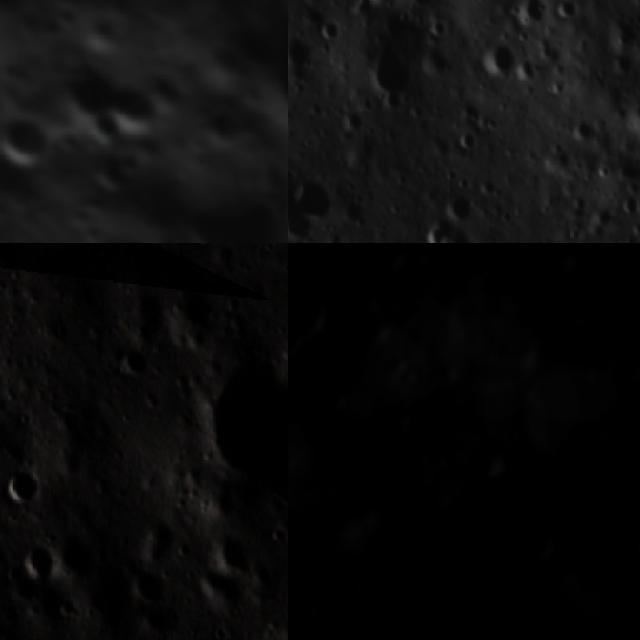crater: (47, 35, 175, 166), (191, 351, 288, 499), (152, 141, 288, 243), (223, 0, 288, 160), (0, 95, 70, 182), (362, 39, 436, 103), (217, 530, 260, 584), (512, 519, 560, 567), (444, 553, 488, 605), (12, 536, 62, 580), (0, 460, 38, 512), (177, 290, 219, 337), (577, 338, 619, 382), (132, 557, 166, 608), (374, 406, 414, 448), (536, 243, 580, 280), (468, 434, 499, 486), (610, 336, 640, 384), (117, 343, 154, 381), (364, 548, 397, 590), (482, 41, 518, 78), (368, 243, 408, 275), (396, 576, 430, 613), (552, 282, 587, 316), (445, 189, 479, 223), (332, 572, 363, 606), (320, 386, 347, 423), (612, 381, 640, 416), (561, 305, 594, 333), (626, 463, 640, 523), (288, 624, 325, 640), (622, 480, 640, 509), (288, 374, 297, 419), (630, 101, 640, 132)
